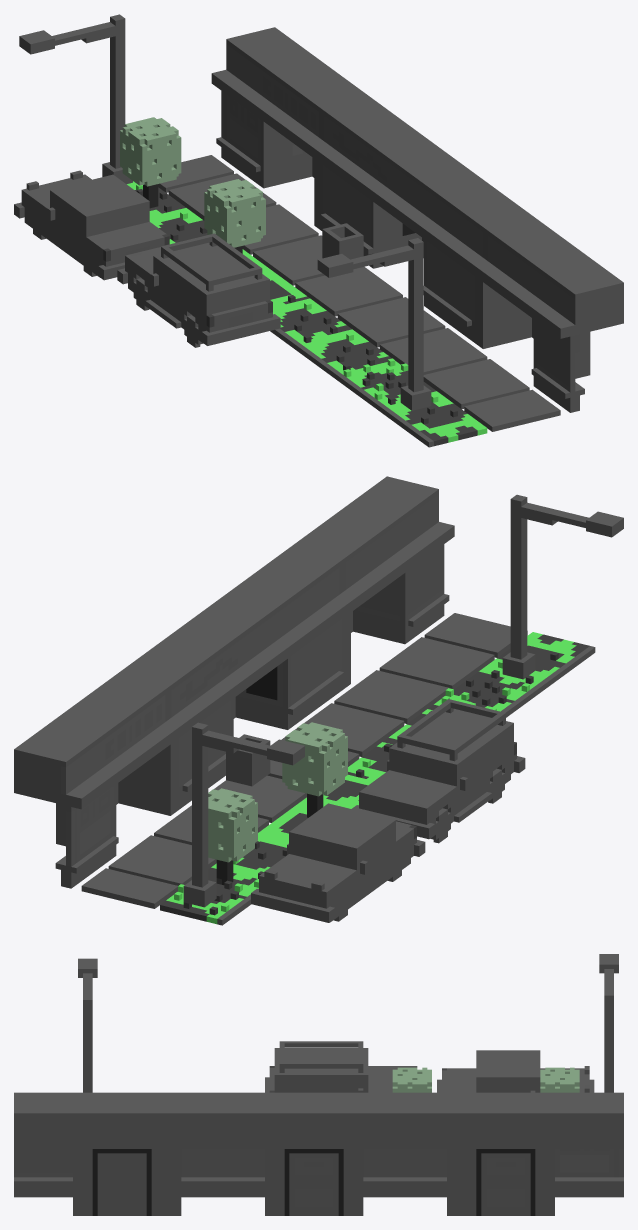
The model's file is scene_store2.obj.
3 renders of one model, top to bottom at view 1: azimuth 30°, elevation 25°; view 2: azimuth 150°, elevation 25°; view 3: azimuth 270°, elevation 25°, orthographic. The views are drawn at different scales.
Bounding box in the file's own units: 57 × 34 × 124.
